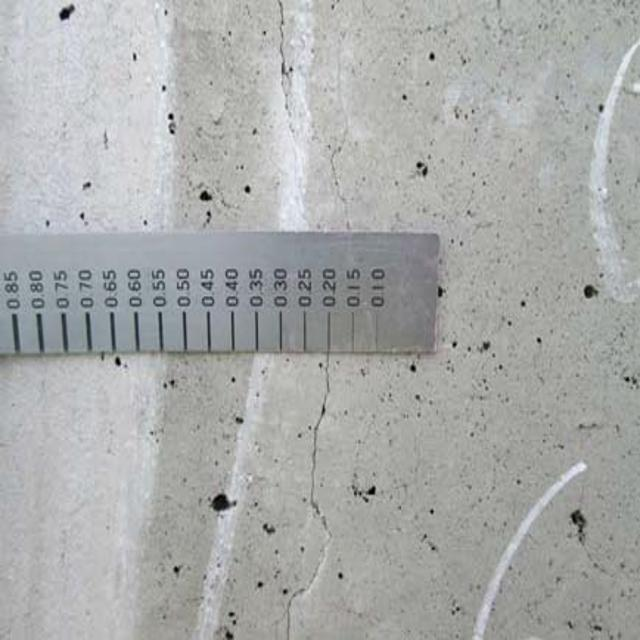crack: (276, 357, 337, 634), (323, 89, 364, 230), (273, 9, 303, 117)
